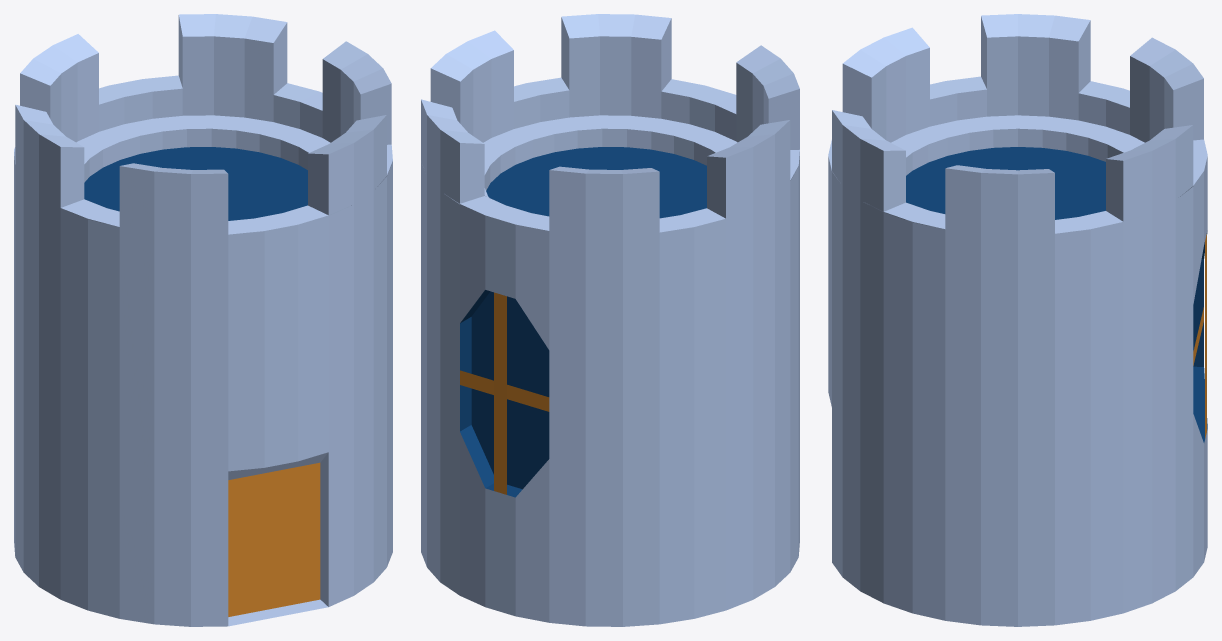
The model's file is tower_v1.fbx.
3 views of the same model, side by side, from view 1: azimuth 30°, elevation 25°; view 2: azimuth 150°, elevation 25°; view 3: azimuth 270°, elevation 25° (orthographic).
Visible parts, largest first — view 1: Cylinder; view 2: Cylinder; view 3: Cylinder.
Boxes of the visible parts, x1,y1,x2,y2 form: Cylinder: (14,14,392,626); Cylinder: (421,14,799,626); Cylinder: (828,14,1207,626).
Size of the model in its own units: 380 by 500 by 380.
